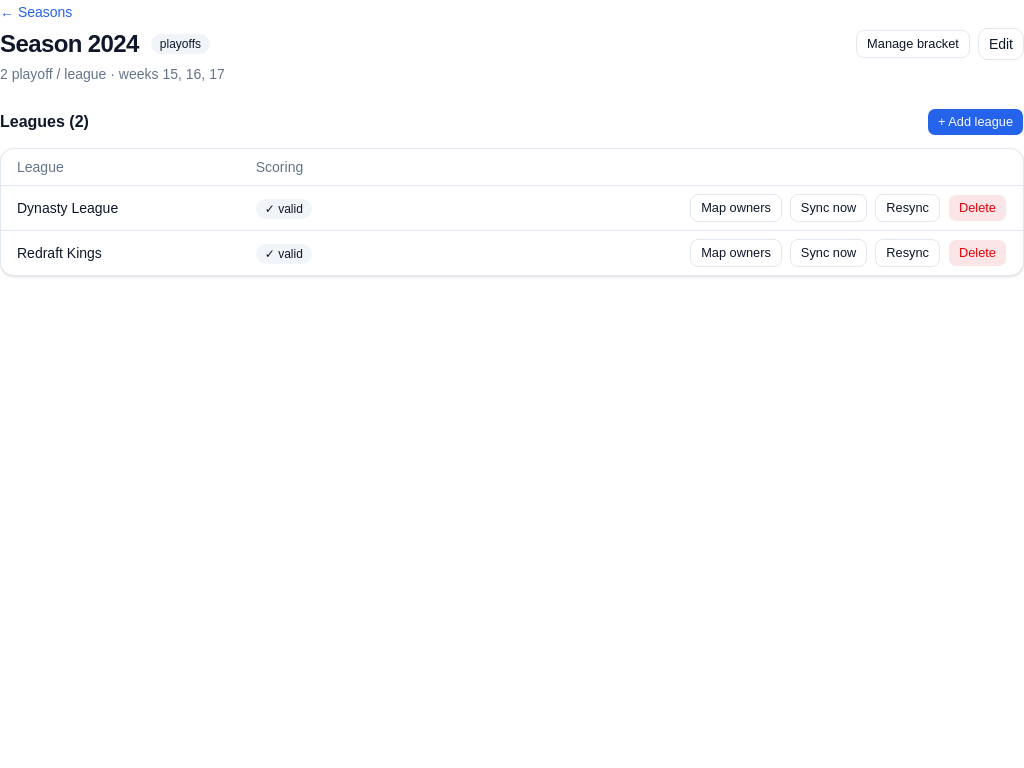
Test: Delete confirms then removes the league
What coordinates should you click on to do the following:
click the button "Delete" in the row of "Dynasty League"
I would click on:
 (978, 208)
Its box is x1=948 y1=194 x2=1007 y2=222.
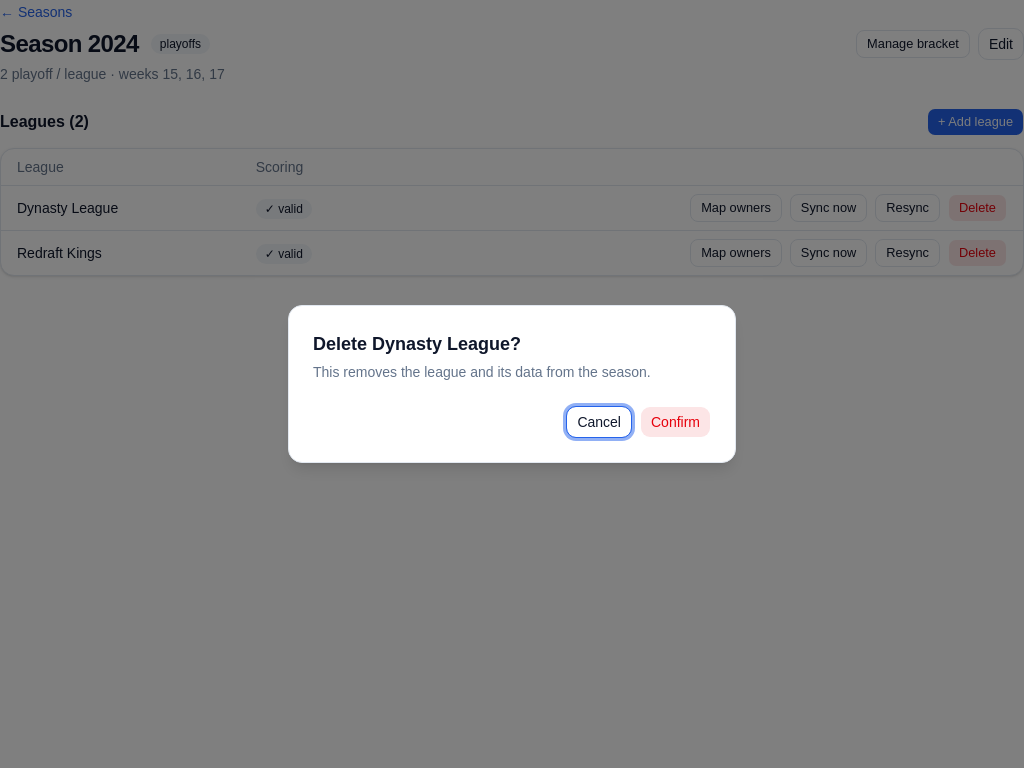
What coordinates should you click on to do the following:
click the button "Confirm"
I would click on:
 (676, 422)
Its box is x1=640 y1=406 x2=711 y2=438.
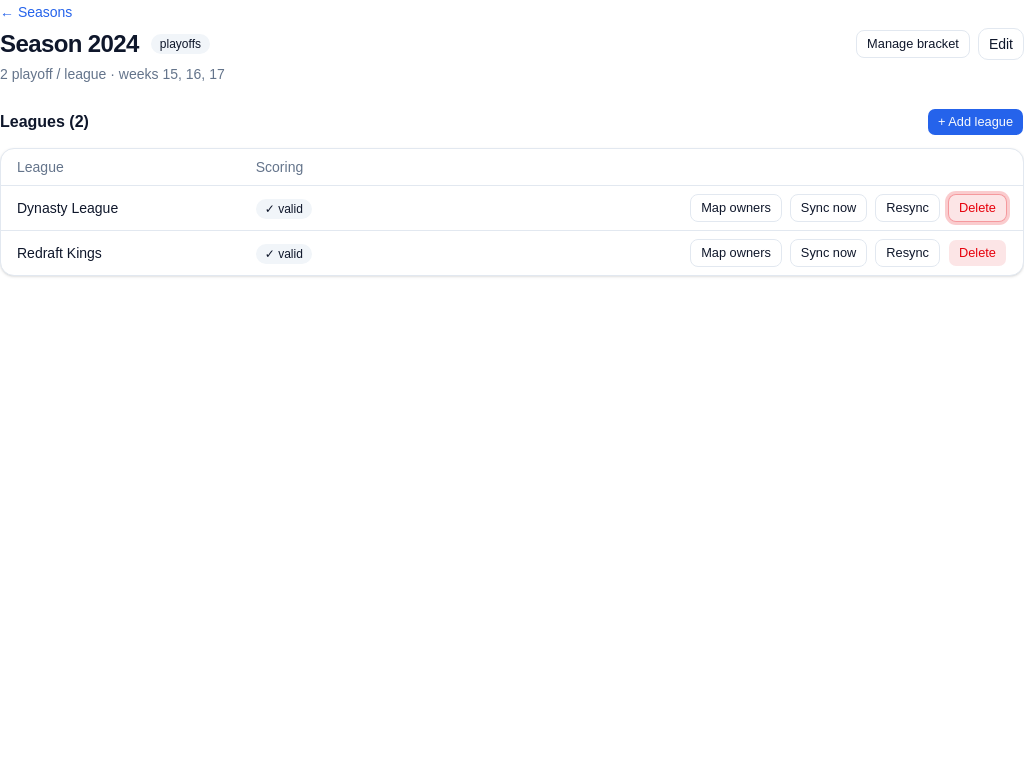
Expected: the button "Confirm" is gone
